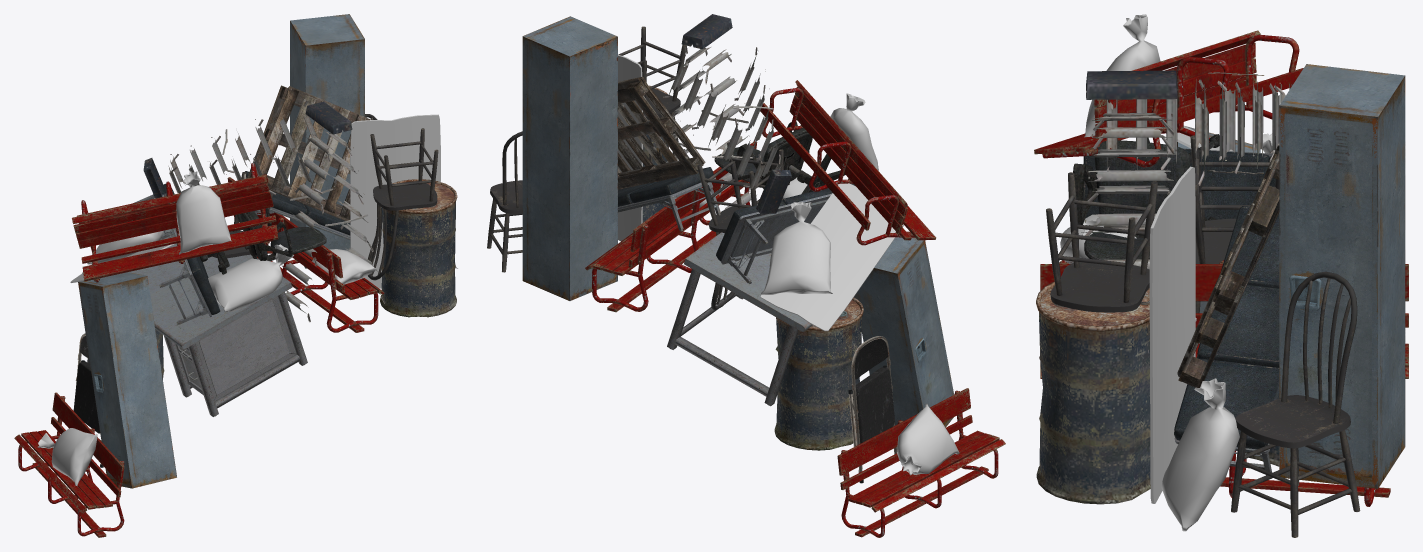
The model's file is Barricade7.fbx.
The picture shows the model from 3 angles, left to right: view 1: azimuth 30°, elevation 25°; view 2: azimuth 150°, elevation 25°; view 3: azimuth 270°, elevation 25°; orthographic projection. The views are drawn at different scales.
Visible parts, largest first — view 1: LOD_1_Group_0_Sub_2__sm30_051_Locker01A_A_Mat1, LOD_1_Group_0_Sub_1__sm30_112_bench01A_A_Mat, LOD_1_Group_0_Sub_11__sm30_093_STARSPClDesk01A_A_Mat1, LOD_1_Group_0_Sub_8__sm26_046_Sandbag04A_A_Mat__Env_default, LOD_1_Group_0_Sub_5__sm26_013_oilCan01A_A_Mat, LOD_1_Group_0_Sub_12__sm26_022_WoodBoard01A_A_Mat, LOD_1_Group_0_Sub_6__sm30_163_Foldingladder03A_A_Mat, LOD_1_Group_0_Sub_4__sm26_003_Palette01A_A_Mat, LOD_1_Group_0_Sub_7__sm30_115_cafeChair01A_A_Mat, LOD_1_Group_0_Sub_3__sm30_126_BenchA01A_A_Mat1, LOD_1_Group_0_Sub_10__sm30_057_OfficeChair_A_Mat, LOD_1_Group_0_Sub_9__sm30_153_FoldingChair01A_A_Mat; view 2: LOD_1_Group_0_Sub_2__sm30_051_Locker01A_A_Mat1, LOD_1_Group_0_Sub_1__sm30_112_bench01A_A_Mat, LOD_1_Group_0_Sub_5__sm26_013_oilCan01A_A_Mat, LOD_1_Group_0_Sub_8__sm26_046_Sandbag04A_A_Mat__Env_default, LOD_1_Group_0_Sub_12__sm26_022_WoodBoard01A_A_Mat, LOD_1_Group_0_Sub_6__sm30_163_Foldingladder03A_A_Mat, LOD_1_Group_0_Sub_3__sm30_126_BenchA01A_A_Mat1, LOD_1_Group_0_Sub_11__sm30_093_STARSPClDesk01A_A_Mat1, LOD_1_Group_0_Sub_7__sm30_115_cafeChair01A_A_Mat, LOD_1_Group_0_Sub_4__sm26_003_Palette01A_A_Mat, LOD_1_Group_0_Sub_9__sm30_153_FoldingChair01A_A_Mat, LOD_1_Group_0_Sub_10__sm30_057_OfficeChair_A_Mat; view 3: LOD_1_Group_0_Sub_2__sm30_051_Locker01A_A_Mat1, LOD_1_Group_0_Sub_7__sm30_115_cafeChair01A_A_Mat, LOD_1_Group_0_Sub_5__sm26_013_oilCan01A_A_Mat, LOD_1_Group_0_Sub_3__sm30_126_BenchA01A_A_Mat1, LOD_1_Group_0_Sub_6__sm30_163_Foldingladder03A_A_Mat, LOD_1_Group_0_Sub_1__sm30_112_bench01A_A_Mat, LOD_1_Group_0_Sub_12__sm26_022_WoodBoard01A_A_Mat, LOD_1_Group_0_Sub_8__sm26_046_Sandbag04A_A_Mat__Env_default, LOD_1_Group_0_Sub_4__sm26_003_Palette01A_A_Mat, LOD_1_Group_0_Sub_10__sm30_057_OfficeChair_A_Mat.
Boxes of the visible parts, x1,y1,x2,y2 form: LOD_1_Group_0_Sub_2__sm30_051_Locker01A_A_Mat1: (78,14,364,488); LOD_1_Group_0_Sub_1__sm30_112_bench01A_A_Mat: (14,163,384,537); LOD_1_Group_0_Sub_11__sm30_093_STARSPClDesk01A_A_Mat1: (82,229,307,416); LOD_1_Group_0_Sub_8__sm26_046_Sandbag04A_A_Mat__Env_default: (37,171,457,485); LOD_1_Group_0_Sub_5__sm26_013_oilCan01A_A_Mat: (87,179,457,379); LOD_1_Group_0_Sub_12__sm26_022_WoodBoard01A_A_Mat: (70,114,440,288); LOD_1_Group_0_Sub_6__sm30_163_Foldingladder03A_A_Mat: (143,101,385,322); LOD_1_Group_0_Sub_4__sm26_003_Palette01A_A_Mat: (247,85,371,220); LOD_1_Group_0_Sub_7__sm30_115_cafeChair01A_A_Mat: (212,114,438,280); LOD_1_Group_0_Sub_3__sm30_126_BenchA01A_A_Mat1: (133,171,350,324); LOD_1_Group_0_Sub_10__sm30_057_OfficeChair_A_Mat: (199,208,326,274); LOD_1_Group_0_Sub_9__sm30_153_FoldingChair01A_A_Mat: (73,333,103,467); LOD_1_Group_0_Sub_2__sm30_051_Locker01A_A_Mat1: (522,16,953,427); LOD_1_Group_0_Sub_1__sm30_112_bench01A_A_Mat: (585,80,1005,537); LOD_1_Group_0_Sub_5__sm26_013_oilCan01A_A_Mat: (642,85,863,450); LOD_1_Group_0_Sub_8__sm26_046_Sandbag04A_A_Mat__Env_default: (676,93,959,475); LOD_1_Group_0_Sub_12__sm26_022_WoodBoard01A_A_Mat: (618,54,903,331); LOD_1_Group_0_Sub_6__sm30_163_Foldingladder03A_A_Mat: (663,14,791,213); LOD_1_Group_0_Sub_3__sm30_126_BenchA01A_A_Mat1: (618,167,855,283); LOD_1_Group_0_Sub_11__sm30_093_STARSPClDesk01A_A_Mat1: (667,232,855,406); LOD_1_Group_0_Sub_7__sm30_115_cafeChair01A_A_Mat: (487,26,783,309); LOD_1_Group_0_Sub_4__sm26_003_Palette01A_A_Mat: (617,76,705,189); LOD_1_Group_0_Sub_9__sm30_153_FoldingChair01A_A_Mat: (848,336,897,483); LOD_1_Group_0_Sub_10__sm30_057_OfficeChair_A_Mat: (714,121,845,194); LOD_1_Group_0_Sub_2__sm30_051_Locker01A_A_Mat1: (1177,64,1405,488); LOD_1_Group_0_Sub_7__sm30_115_cafeChair01A_A_Mat: (1046,135,1360,537); LOD_1_Group_0_Sub_5__sm26_013_oilCan01A_A_Mat: (1036,281,1279,504); LOD_1_Group_0_Sub_3__sm30_126_BenchA01A_A_Mat1: (1083,148,1279,475); LOD_1_Group_0_Sub_6__sm30_163_Foldingladder03A_A_Mat: (1081,70,1292,269); LOD_1_Group_0_Sub_1__sm30_112_bench01A_A_Mat: (1034,30,1408,506); LOD_1_Group_0_Sub_12__sm26_022_WoodBoard01A_A_Mat: (1149,125,1233,503); LOD_1_Group_0_Sub_8__sm26_046_Sandbag04A_A_Mat__Env_default: (1060,14,1272,531); LOD_1_Group_0_Sub_4__sm26_003_Palette01A_A_Mat: (1177,143,1279,387); LOD_1_Group_0_Sub_10__sm30_057_OfficeChair_A_Mat: (1073,134,1219,260).
Size of the model in its own units: 3.67 by 3.22 by 1.74.
